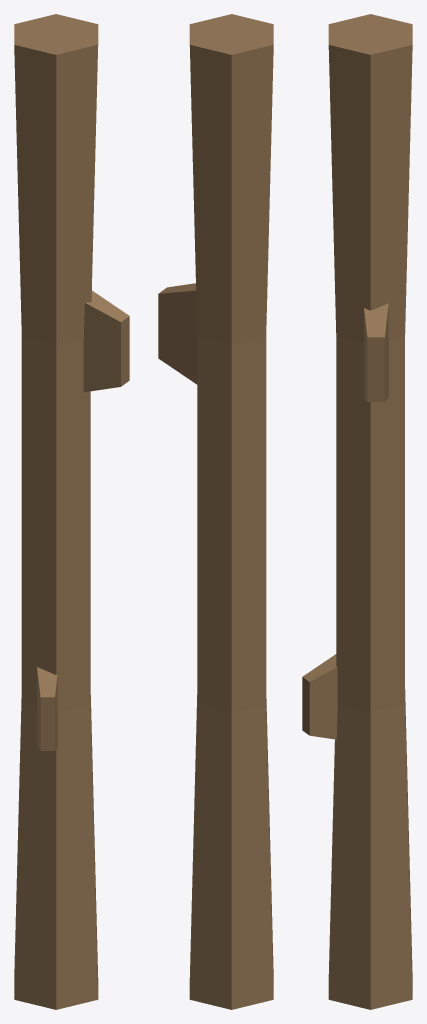
File: wooden-stick.glb
3 views of the same model, side by side, from view 1: azimuth 30°, elevation 25°; view 2: azimuth 210°, elevation 25°; view 3: azimuth 330°, elevation 25° (orthographic).
Parts seen in each view (by area): view 1: tree-log-small-adapted; view 2: tree-log-small-adapted; view 3: tree-log-small-adapted.
Boxes of the visible parts, <box> form: tree-log-small-adapted: <box>14,14,129,1009</box>; tree-log-small-adapted: <box>158,14,273,1009</box>; tree-log-small-adapted: <box>302,14,412,1009</box>.
Bounding box in the file's own units: 0.0948 × 1.01 × 0.1053.
